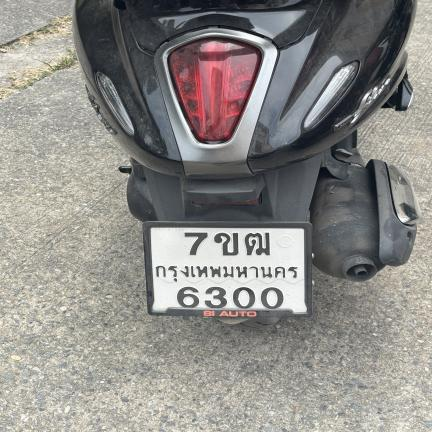0: (230, 286, 257, 309), (258, 286, 284, 309)
3: (203, 286, 228, 309)
6: (172, 286, 202, 308)
7: (182, 231, 209, 256)
A02: (212, 231, 240, 256)
A18: (241, 230, 272, 256)
BKK: (152, 263, 301, 284)
